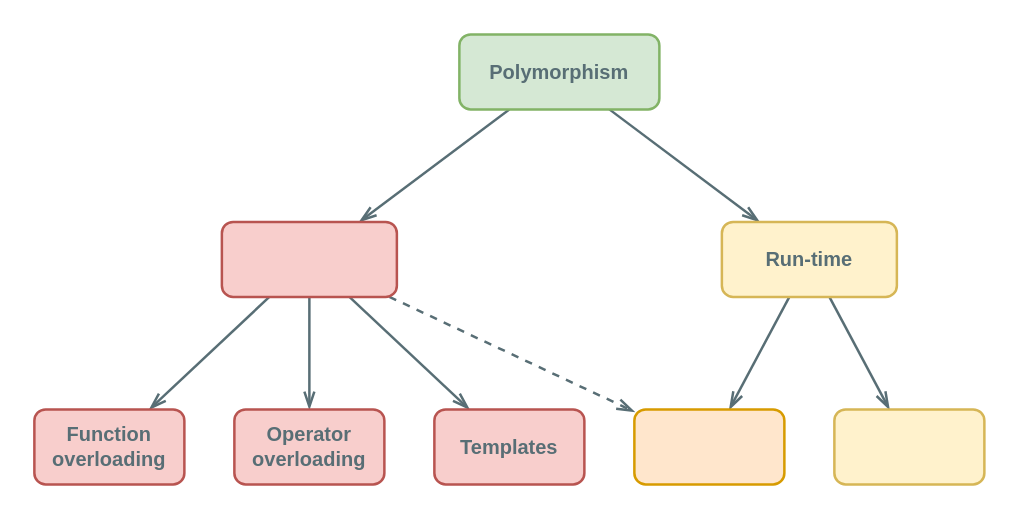
Some shapes in this 1018 by 518 pixel diagram are drawn without their labels. Each missing label, with the centre of its shape:
"Compile-time" goes at [309,259].
"Type erasure" goes at [708,446].
"Virtual functions" goes at [908,446].
